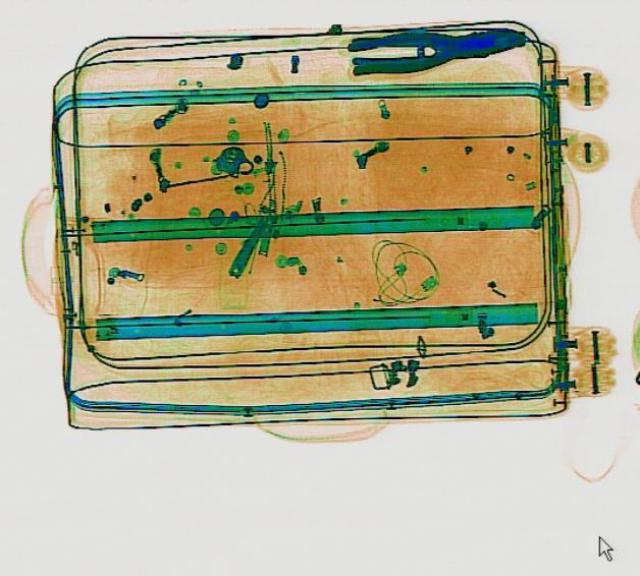Pliers: (344, 18, 530, 76)
